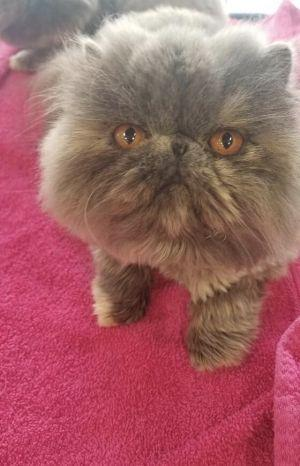persian: (39, 1, 300, 293)
